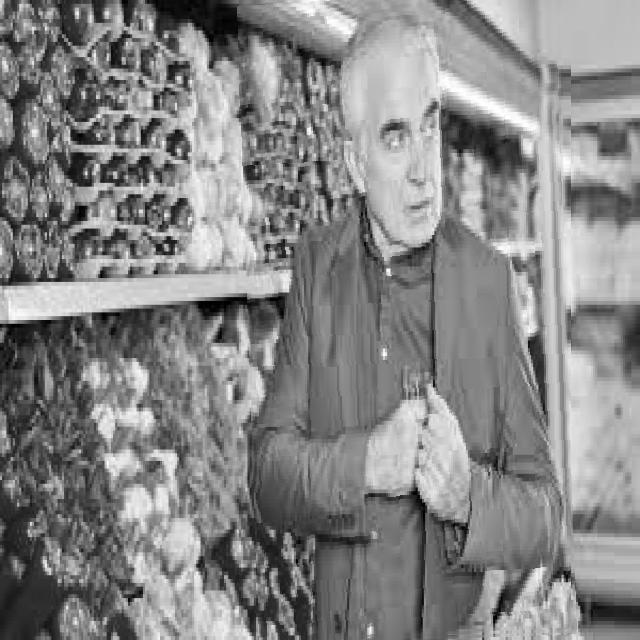Shoplifting: (242, 0, 571, 640)
